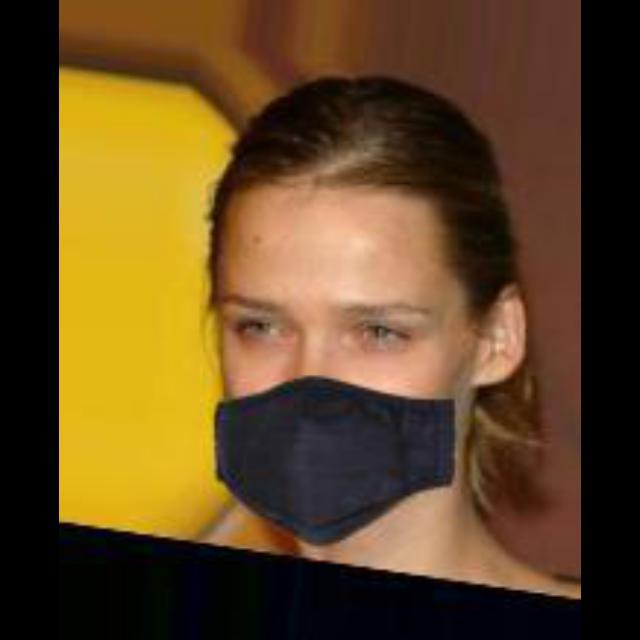suspicion: (132, 29, 524, 536)
